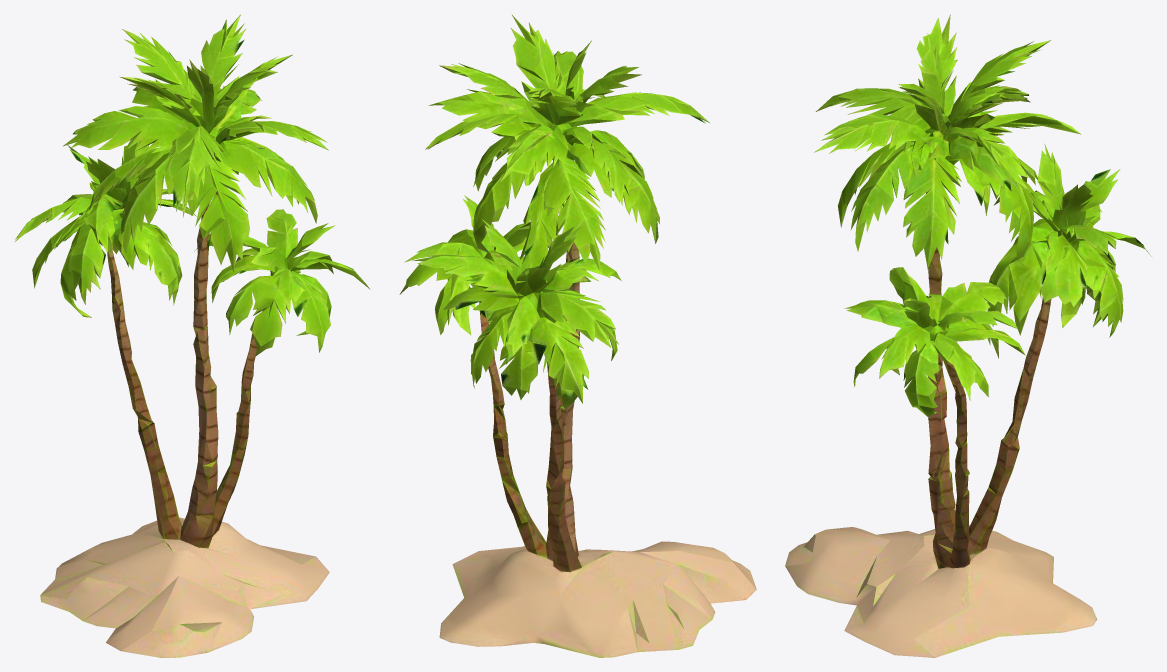
The model's file is palm-cluster.lod.glb.
The picture shows the model from 3 angles, left to right: view 1: azimuth 30°, elevation 25°; view 2: azimuth 150°, elevation 25°; view 3: azimuth 270°, elevation 25°; orthographic projection. The views are drawn at different scales.
Size of the model in its own units: 1.07 by 1.9 by 1.13.
1 material, 1 textured.
